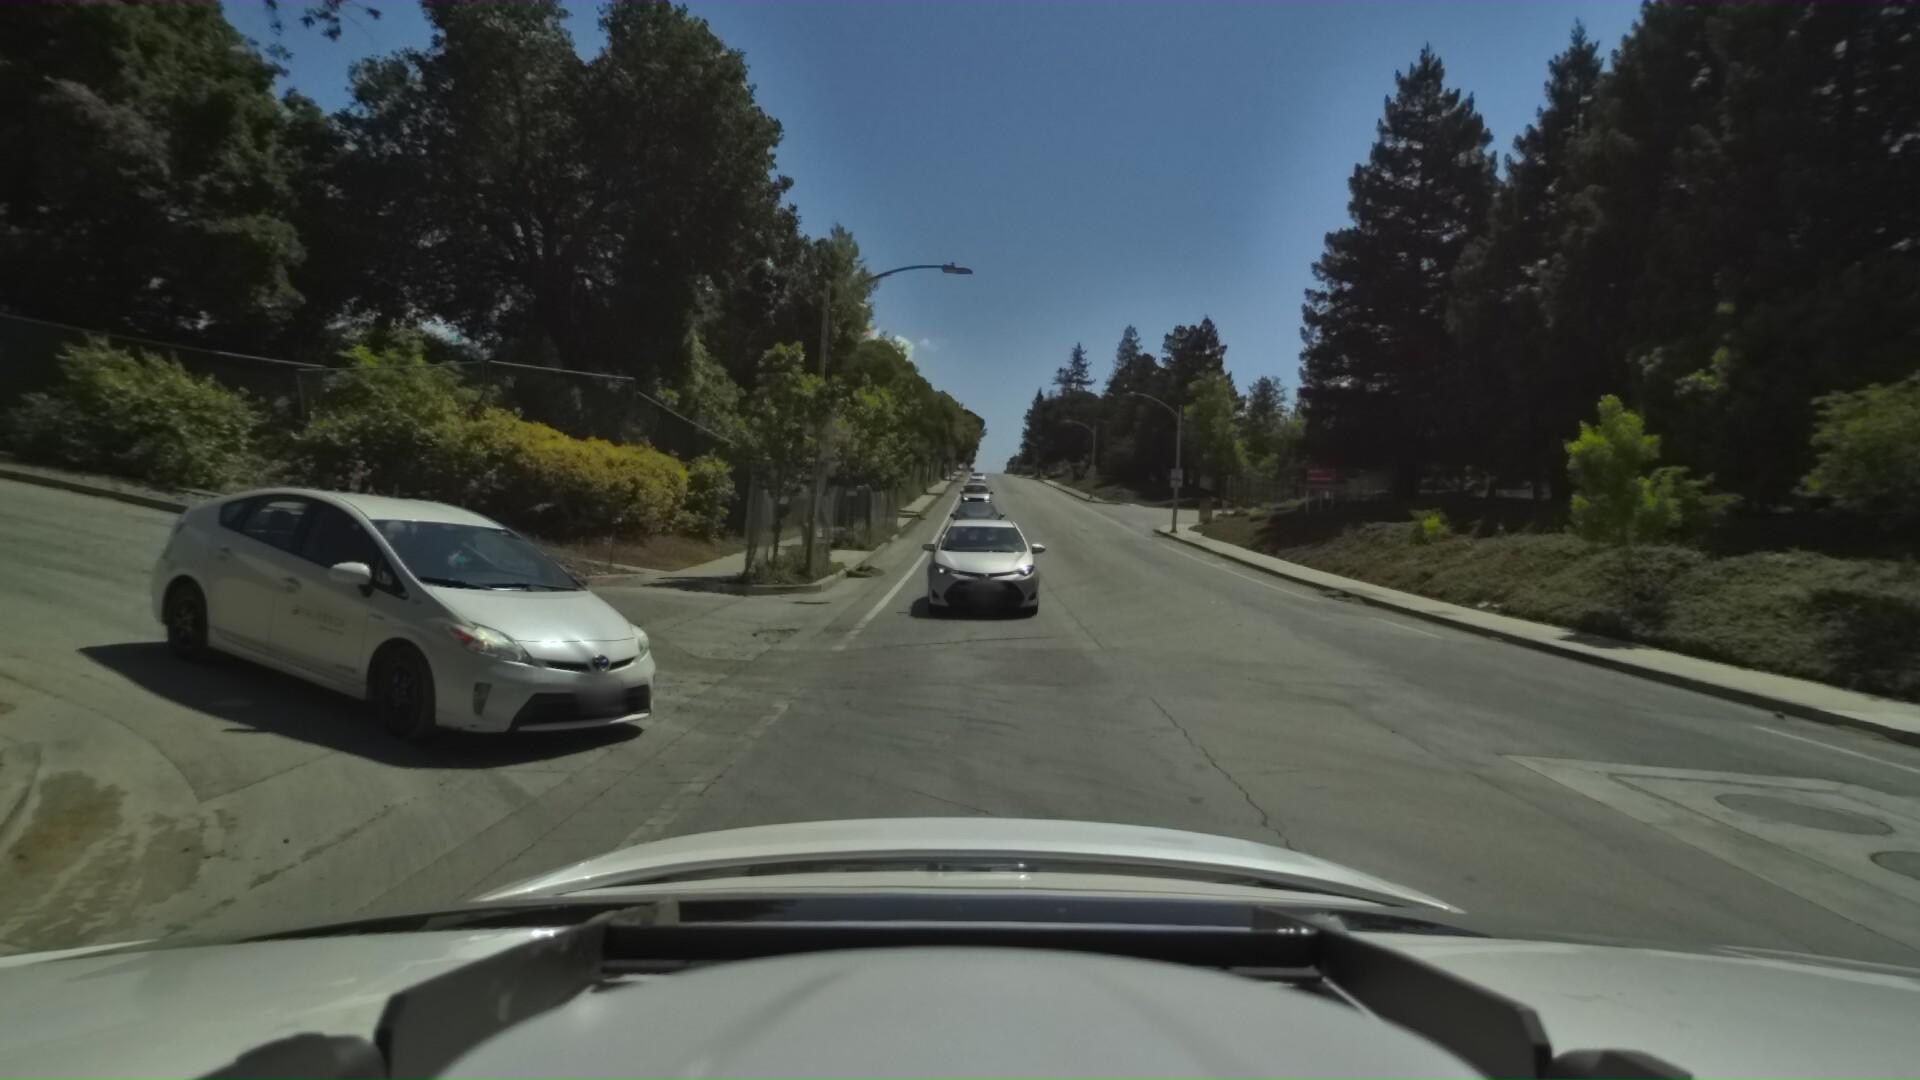car: (148, 467, 740, 756), (915, 500, 1048, 621), (945, 495, 1001, 545), (953, 476, 990, 512)
